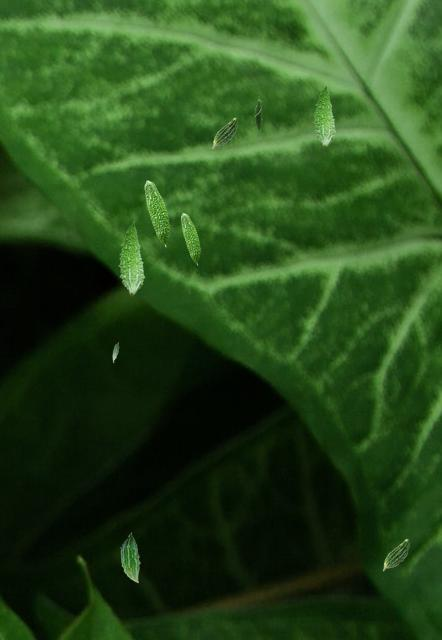ampalaya: (118, 220, 145, 296), (144, 180, 170, 247), (313, 84, 336, 148), (180, 212, 201, 265), (120, 532, 140, 583), (382, 538, 410, 571), (212, 117, 238, 148), (253, 95, 263, 133), (112, 341, 119, 363)
